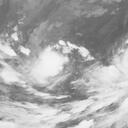cyclone: (31, 49, 70, 87)
